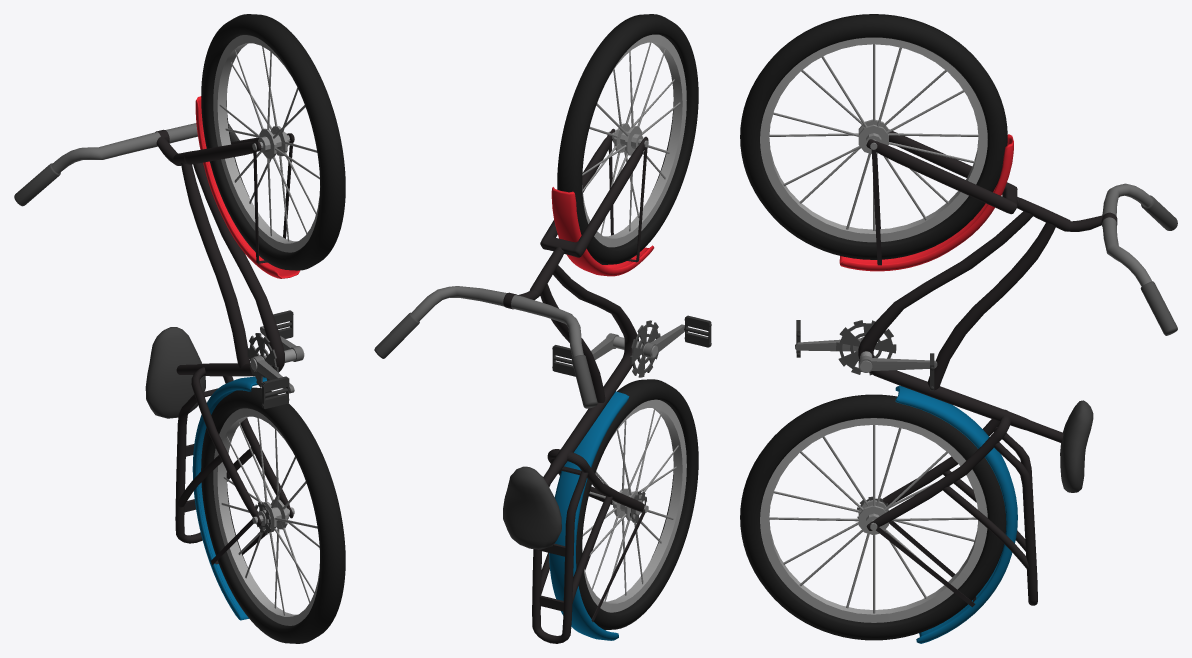
Rendered from Cruiser_Bike.fbx.
3 views of the same model, side by side, from view 1: azimuth 30°, elevation 25°; view 2: azimuth 150°, elevation 25°; view 3: azimuth 270°, elevation 25° (orthographic). The views are drawn at different scales.
Visible parts, largest first — view 1: Front Wheel, Frame, Rear Wheel, Rim, Seat, Rim.001, Rear Fender, Handlebar, Front Fender, Suspension Fork, Right Grip, Right Pedal (+4 smaller); view 2: Frame, Front Wheel, Rear Wheel, Rear Fender, Seat, Rim.001, Rim, Handlebar, Suspension Fork, Front Fender, Pedal Gear, Right Grip (+7 smaller); view 3: Front Wheel, Frame, Rear Wheel, Rim, Rim.001, Rear Fender, Suspension Fork, Front Fender, Seat, Handlebar, Pedal Gear, Rear Fender Fork (+5 smaller).
Part boxes in pixels (left/top/right/bottom): Front Wheel: left=201, top=14, right=345, bottom=270; Frame: left=173, top=150, right=293, bottom=543; Rear Wheel: left=201, top=387, right=345, bottom=643; Rim: left=213, top=35, right=320, bottom=252; Seat: left=145, top=327, right=205, bottom=418; Rim.001: left=213, top=408, right=319, bottom=625; Rear Fender: left=192, top=376, right=266, bottom=620; Handlebar: left=51, top=123, right=197, bottom=173; Front Fender: left=195, top=96, right=299, bottom=278; Suspension Fork: left=184, top=133, right=294, bottom=164; Right Grip: left=14, top=163, right=60, bottom=206; Right Pedal: left=261, top=376, right=289, bottom=408; Frame: left=530, top=249, right=645, bottom=643; Front Wheel: left=557, top=14, right=698, bottom=264; Rear Wheel: left=576, top=379, right=698, bottom=630; Rear Fender: left=549, top=391, right=629, bottom=640; Seat: left=503, top=466, right=561, bottom=549; Rim.001: left=582, top=399, right=686, bottom=612; Rim: left=582, top=34, right=686, bottom=247; Handlebar: left=411, top=286, right=583, bottom=357; Suspension Fork: left=540, top=128, right=648, bottom=257; Front Fender: left=551, top=187, right=654, bottom=276; Pedal Gear: left=630, top=320, right=660, bottom=377; Right Grip: left=571, top=355, right=597, bottom=408; Front Wheel: left=740, top=14, right=1007, bottom=259; Frame: left=858, top=198, right=1070, bottom=605; Rear Wheel: left=740, top=394, right=1006, bottom=640; Rim: left=760, top=37, right=987, bottom=242; Rim.001: left=760, top=418, right=987, bottom=622; Rear Fender: left=895, top=385, right=1017, bottom=643; Suspension Fork: left=866, top=129, right=1017, bottom=214; Front Fender: left=839, top=134, right=1013, bottom=271; Seat: left=1060, top=400, right=1093, bottom=492; Handlebar: left=1102, top=183, right=1152, bottom=286; Pedal Gear: left=836, top=320, right=896, bottom=375; Rear Fender Fork: left=874, top=521, right=976, bottom=607.
Bounding box in the file's own units: 46.43 × 120 × 76.24.
